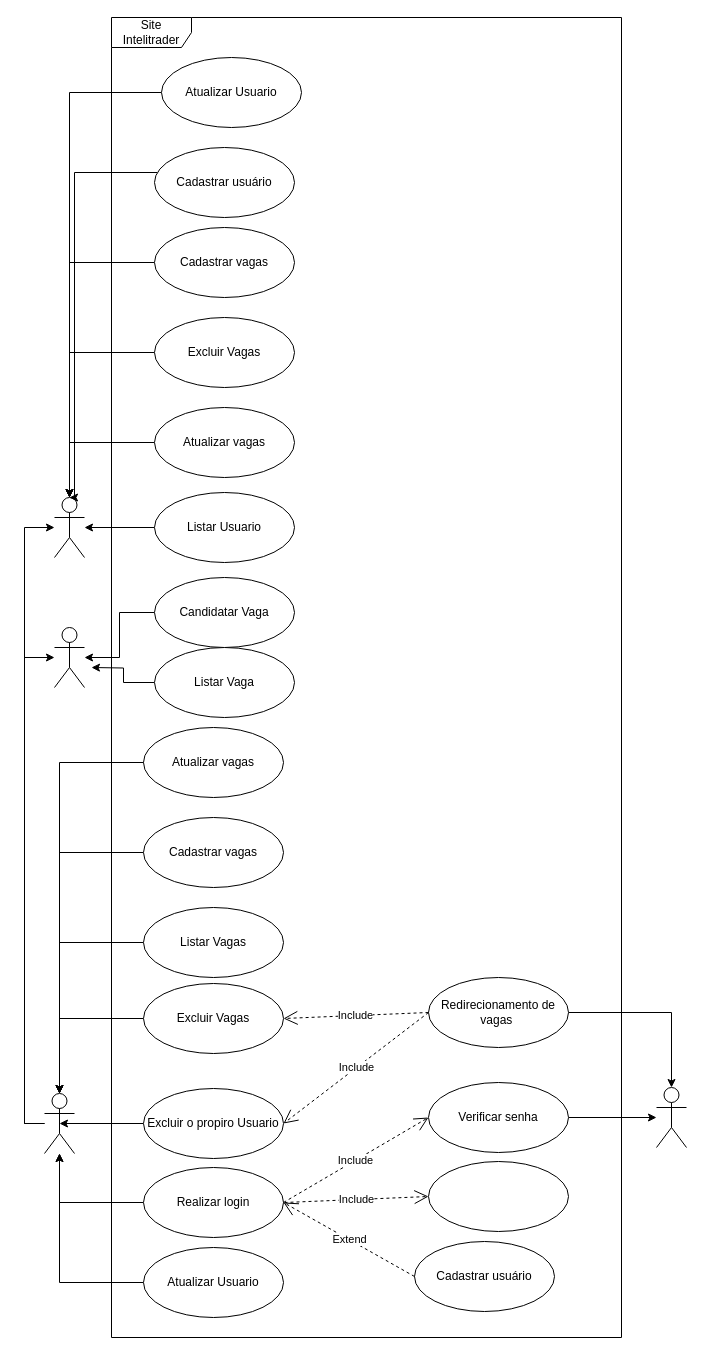
Image size: 710x1355. Some labels were removed from this diagram. Each missing label, with the box of its shape:
Candidato: (54, 626, 84, 688)
Funcionario: (54, 496, 84, 558)
Sistema: (656, 1086, 686, 1148)
Usuário: (44, 1092, 74, 1154)
Verificar email: (428, 1160, 568, 1232)
